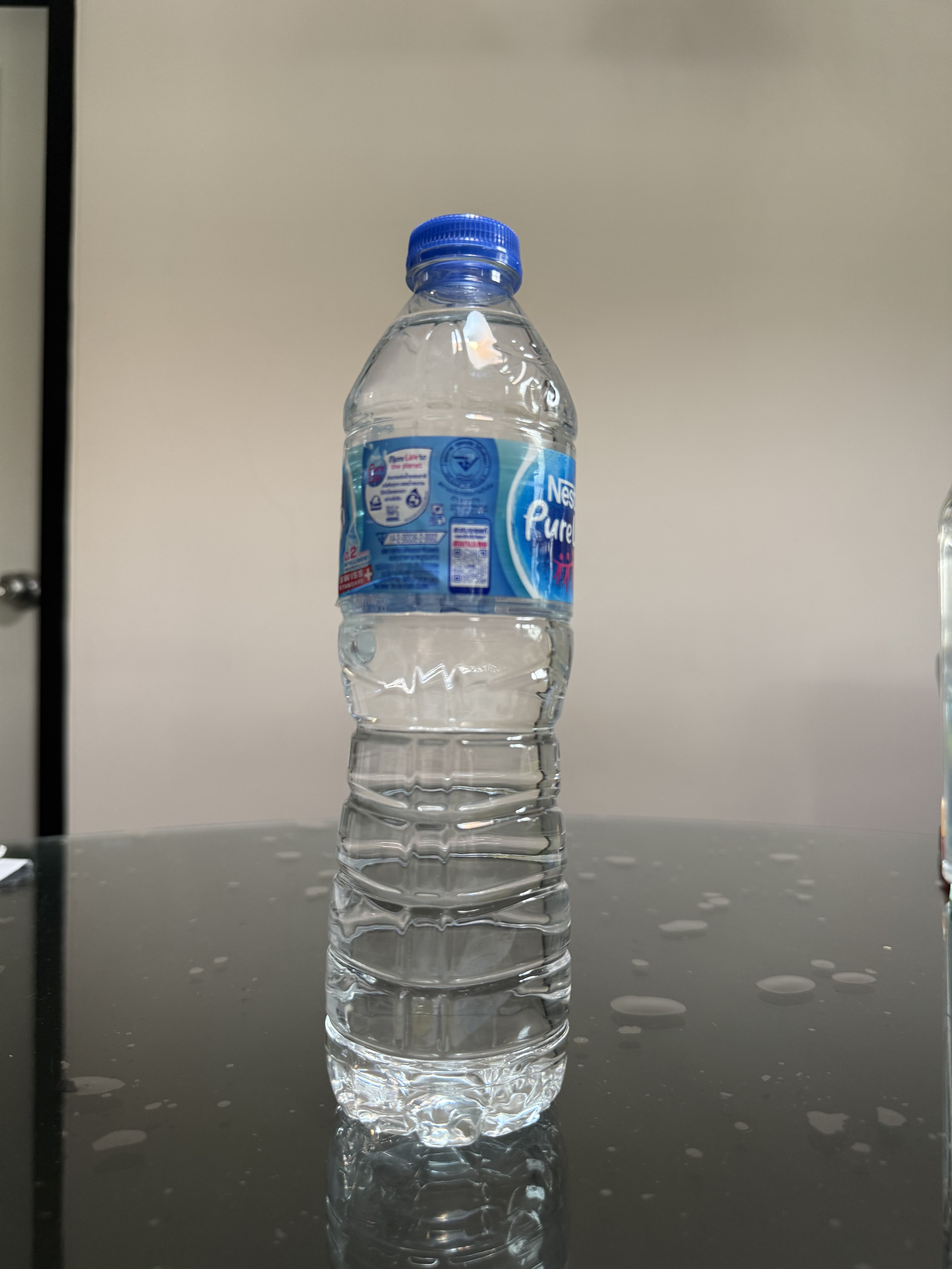closed_cap: (403, 210, 524, 293)
